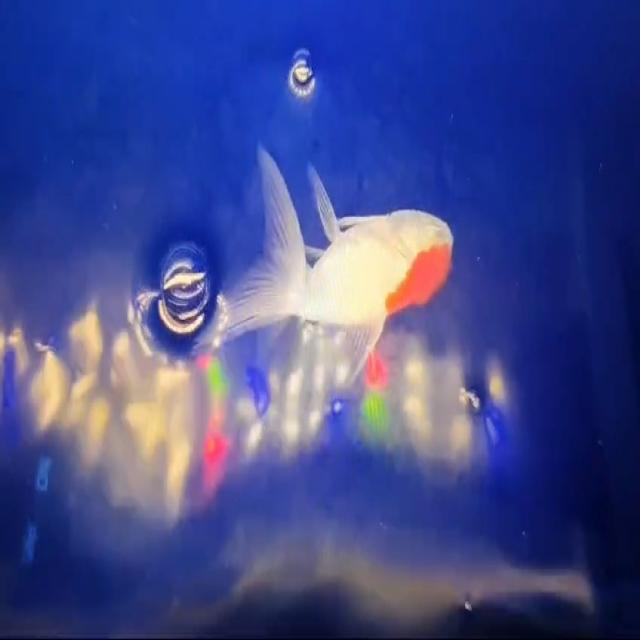fish: (227, 142, 458, 383)
